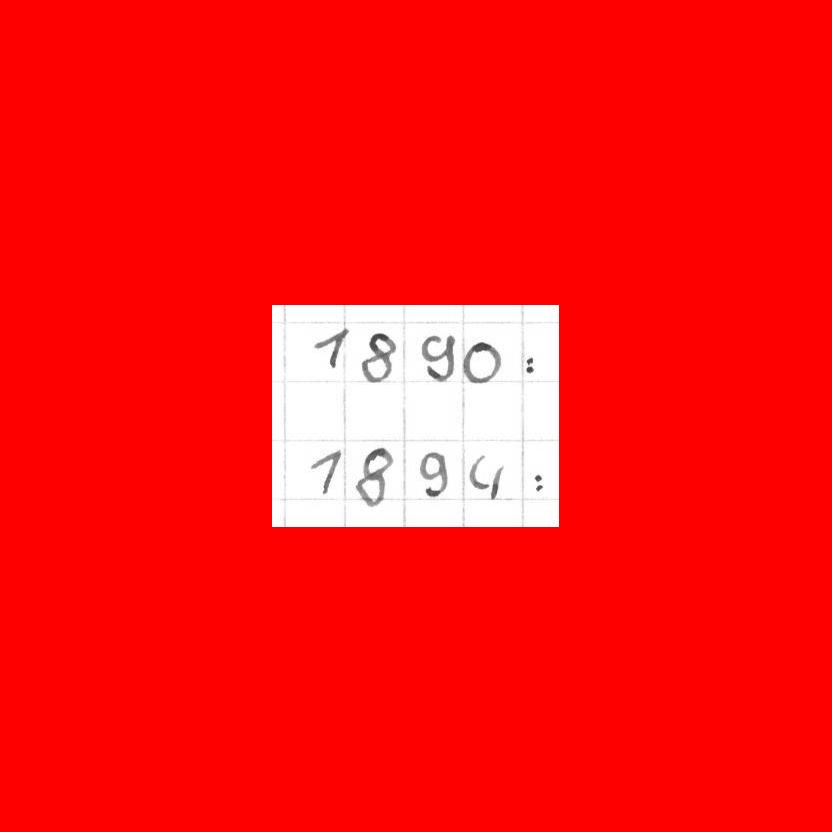Char: (352, 443, 397, 508), (460, 338, 508, 386), (357, 329, 397, 384), (307, 444, 344, 499), (417, 331, 457, 380), (416, 447, 452, 500), (313, 324, 352, 371), (468, 450, 506, 498), (531, 466, 544, 494), (522, 352, 535, 378)
